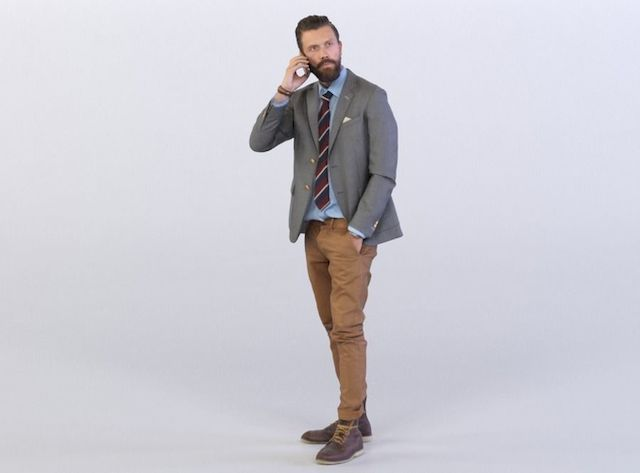phone: (294, 47, 311, 73)
talk: (287, 36, 341, 84)
